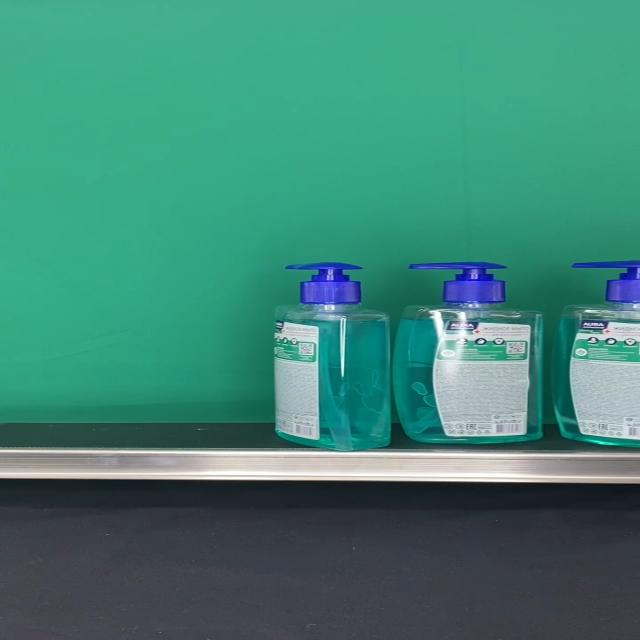Bottle: (392, 262, 542, 444), (274, 261, 391, 452)
Cap: (408, 262, 508, 303), (284, 262, 364, 304)
